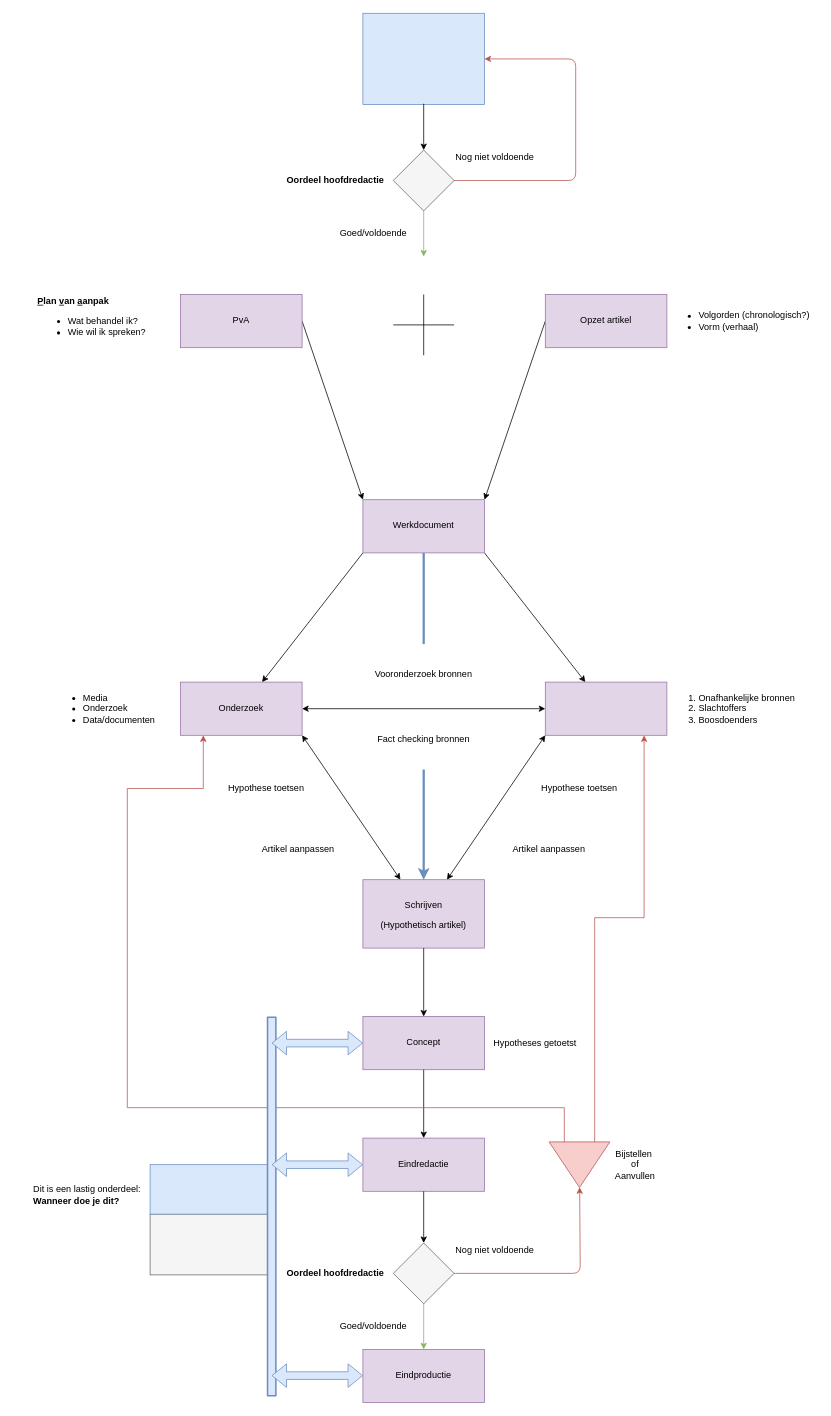
This 831x1416 diagram has some shape labels left out. The centre of each missing label's shape, as x and y in pixels:
Bronnen spreken: the point at 606,708
Checken door bronnen: the point at 210,1244
Vooronderzoek Idee Pitch: the point at 423,58
Wederhoor: the point at 210,1189
